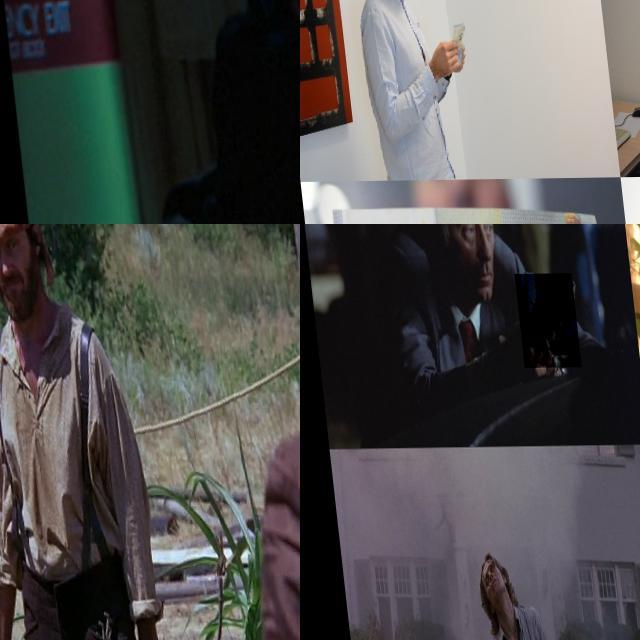gun-knife-thesis - v11 Yolov5 augmented: (511, 274, 576, 369)
